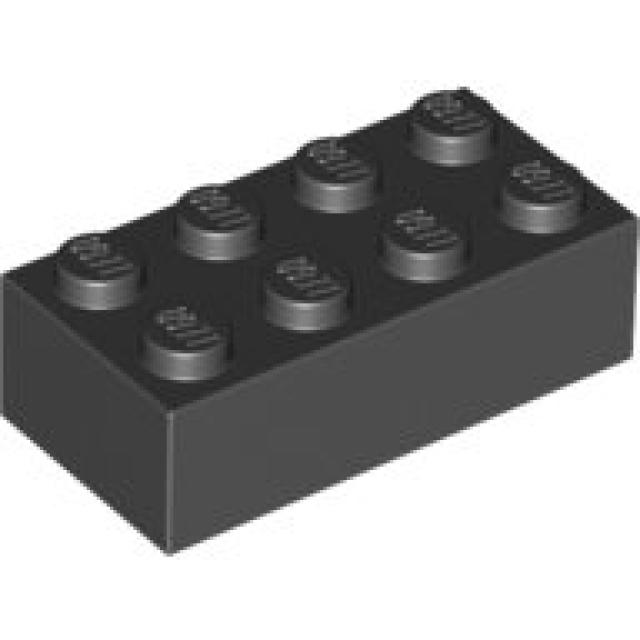Black_Large: (3, 87, 637, 557)
